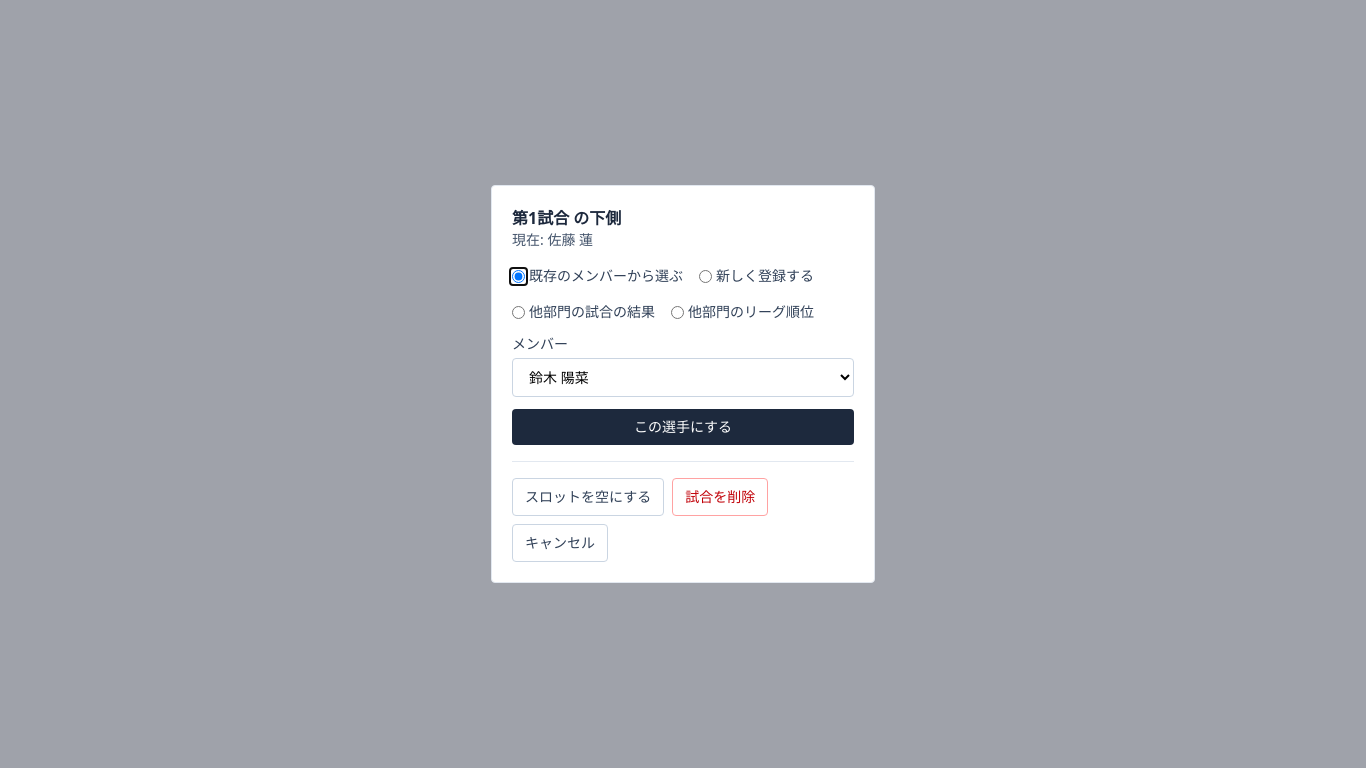
Test case: SlotEditDialog › 他部門の試合を選ぶモードでは試合と勝者・敗者を選べる
Click the radio button labelled "他部門の試合の結果" at point(518, 312), box [512,306,525,318]
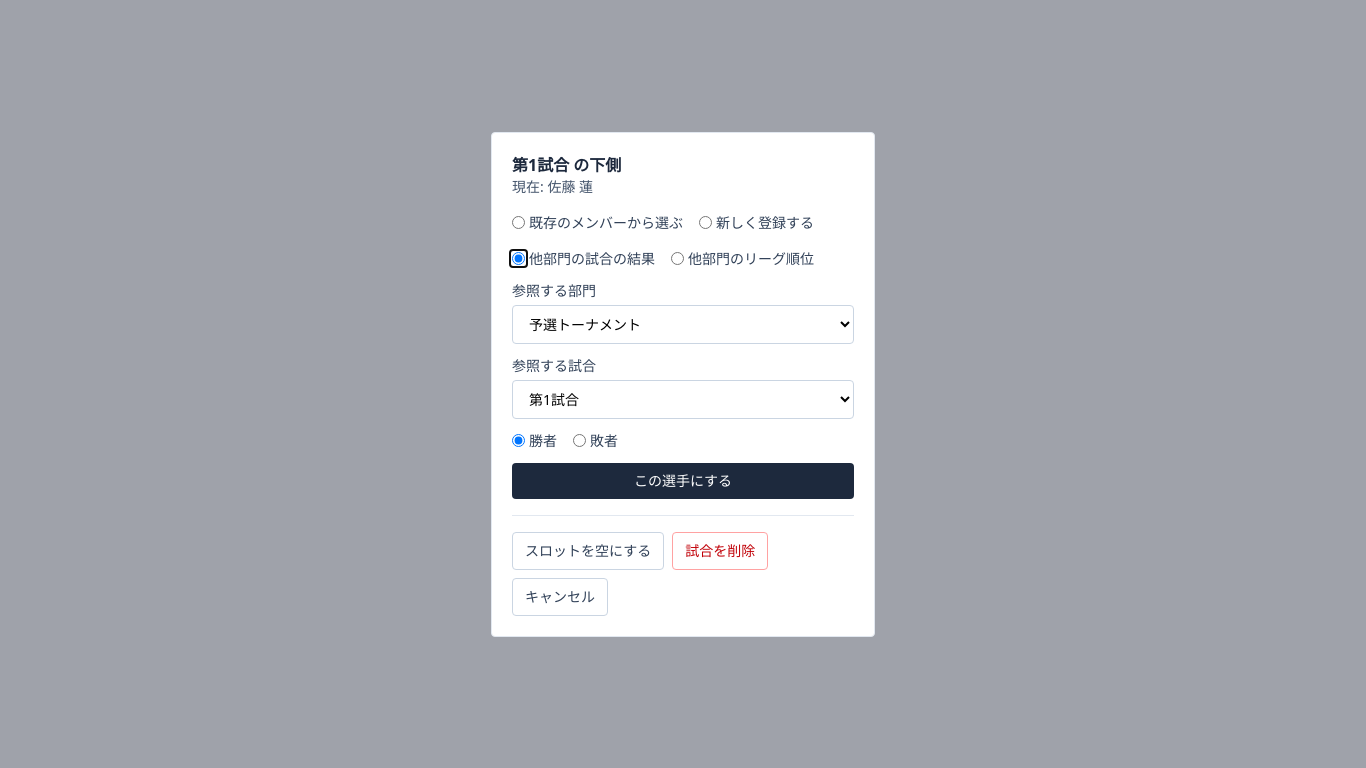
Result: the dropdown labelled "参照する部門" is shown at [512,304,854,344]
Result: the radio button labelled "勝者" is checked at [512,434,525,447]
